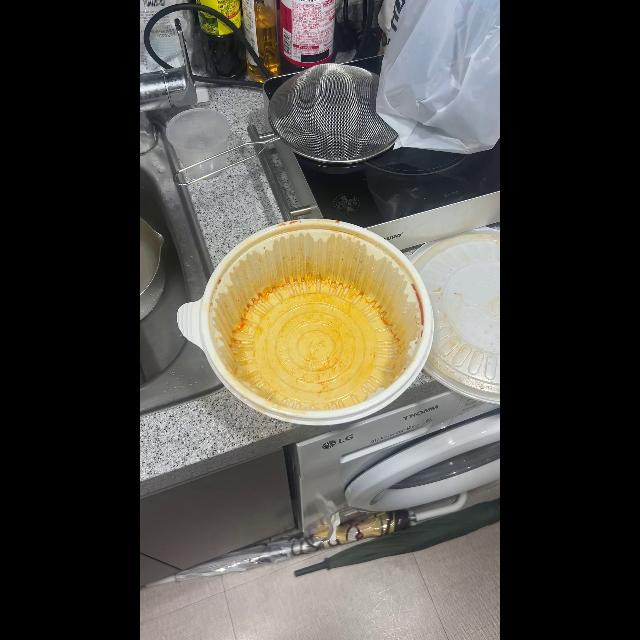dirty: (216, 220, 428, 414)
